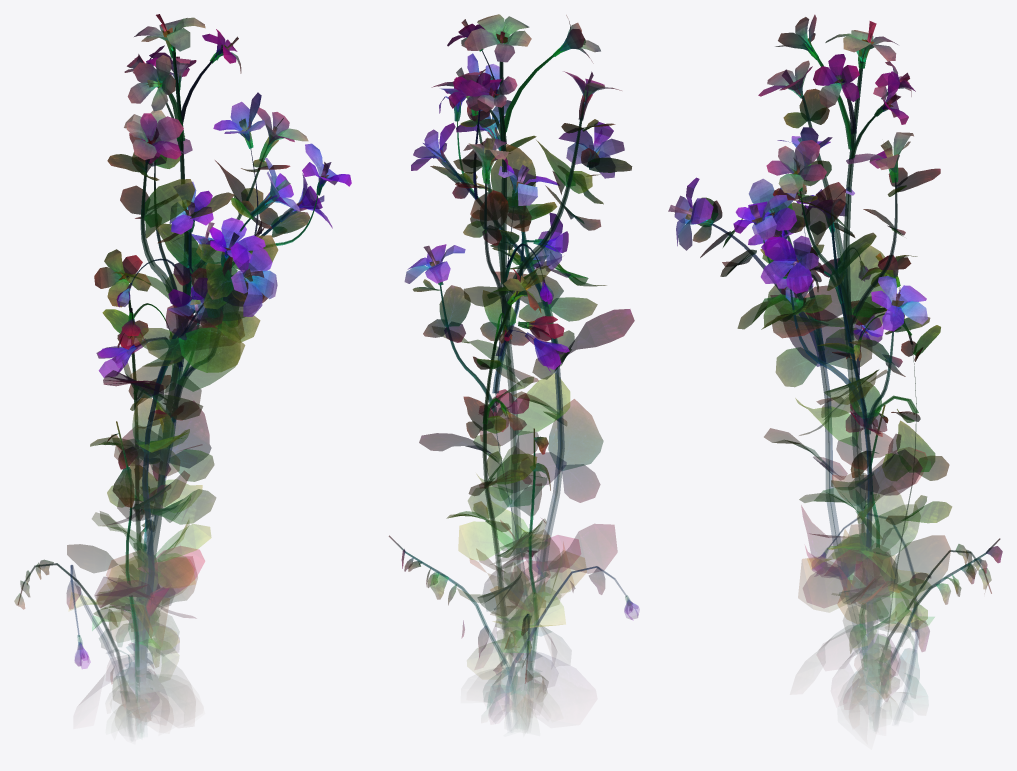
File: tfclbger_tier_3.gltf
The picture shows the model from 3 angles, left to right: view 1: azimuth 30°, elevation 25°; view 2: azimuth 150°, elevation 25°; view 3: azimuth 270°, elevation 25°; orthographic projection. The views are drawn at different scales.
Visible parts, largest first — view 1: SM_tfclbger_VarB, SM_tfclbger_VarA, SM_tfclbger_VarC, SM_tfclbger_VarD, SM_tfclbger_VarE; view 2: SM_tfclbger_VarA, SM_tfclbger_VarB, SM_tfclbger_VarC, SM_tfclbger_VarD, SM_tfclbger_VarE; view 3: SM_tfclbger_VarA, SM_tfclbger_VarB, SM_tfclbger_VarC, SM_tfclbger_VarD, SM_tfclbger_VarE.
Boxes of the visible parts, box(x1,y1,x2,y2) form: SM_tfclbger_VarB: box(79, 92, 351, 711); SM_tfclbger_VarA: box(69, 14, 308, 647); SM_tfclbger_VarC: box(96, 181, 265, 701); SM_tfclbger_VarD: box(66, 249, 183, 703); SM_tfclbger_VarE: box(14, 421, 170, 730); SM_tfclbger_VarA: box(431, 14, 621, 693); SM_tfclbger_VarB: box(411, 53, 634, 689); SM_tfclbger_VarC: box(404, 162, 569, 684); SM_tfclbger_VarD: box(446, 269, 639, 723); SM_tfclbger_VarE: box(388, 428, 550, 725); SM_tfclbger_VarA: box(758, 14, 940, 661); SM_tfclbger_VarB: box(668, 127, 900, 707); SM_tfclbger_VarC: box(748, 187, 930, 659); SM_tfclbger_VarD: box(811, 253, 951, 718); SM_tfclbger_VarE: box(849, 405, 1002, 711).
Size of what is drawn, in the model's own units: 0.4969 by 1.47 by 0.6027.
Materials: 1 (1 with a texture image).
